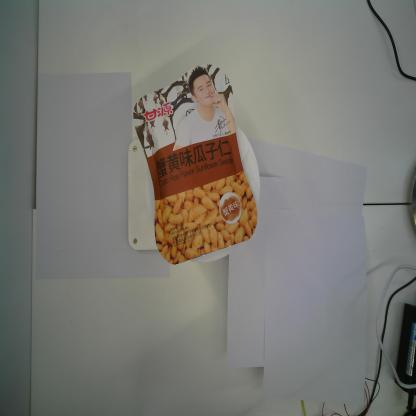Dried Fruit: (132, 63, 258, 266)
